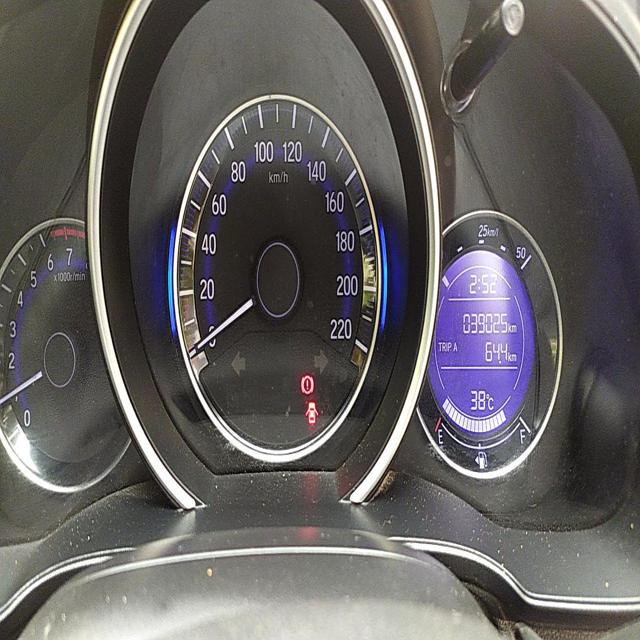odometer: (459, 311, 508, 336)
